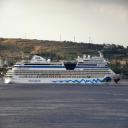cruises: (5, 51, 126, 87)
